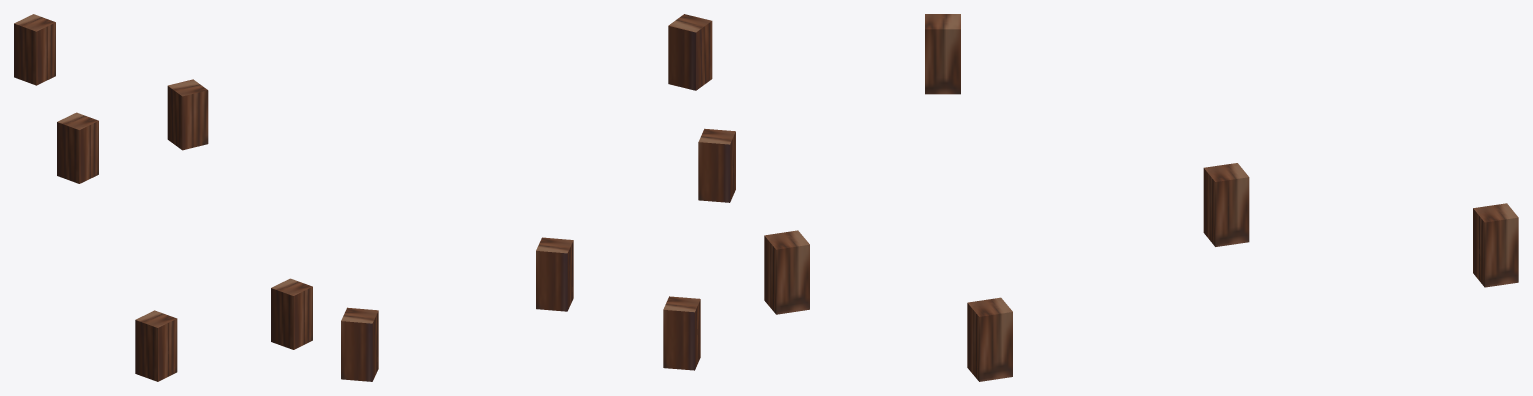
Rendered from M5_Enemies.fbx.
3 renders of one model, left to right at view 1: azimuth 30°, elevation 25°; view 2: azimuth 150°, elevation 25°; view 3: azimuth 270°, elevation 25°, orthographic. The views are drawn at different scales.
Parts seen in each view (by area): view 1: Enemy1, Enemy2, Enemy5, Enemy4, Enemy3; view 2: Enemy3, Enemy1, Enemy5, Enemy4, Enemy2; view 3: Enemy5, Enemy4, Enemy1, Enemy2, Enemy3.
Part boxes in pixels (bbox=[...]): Enemy1: bbox=[135, 310, 177, 381]; Enemy2: bbox=[271, 278, 312, 349]; Enemy5: bbox=[57, 112, 98, 183]; Enemy4: bbox=[14, 14, 55, 85]; Enemy3: bbox=[167, 79, 208, 150]; Enemy3: bbox=[668, 14, 712, 90]; Enemy1: bbox=[663, 296, 700, 370]; Enemy5: bbox=[536, 237, 573, 311]; Enemy4: bbox=[341, 307, 378, 381]; Enemy2: bbox=[698, 128, 735, 202]; Enemy5: bbox=[1203, 163, 1249, 246]; Enemy4: bbox=[1473, 203, 1518, 287]; Enemy1: bbox=[967, 297, 1012, 381]; Enemy2: bbox=[764, 230, 809, 314]; Enemy3: bbox=[925, 14, 960, 94].
Size of what is drawn, in the model's own units: 9.41 by 22 by 42.04.
